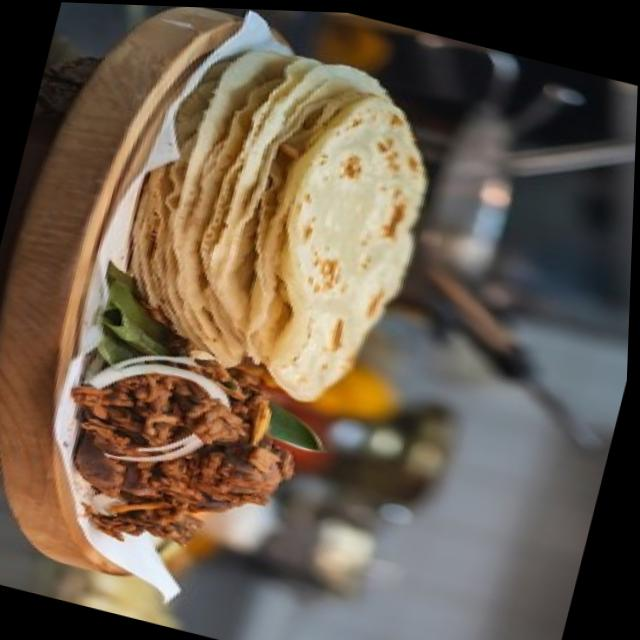CHAPATHI: (133, 52, 425, 398)
